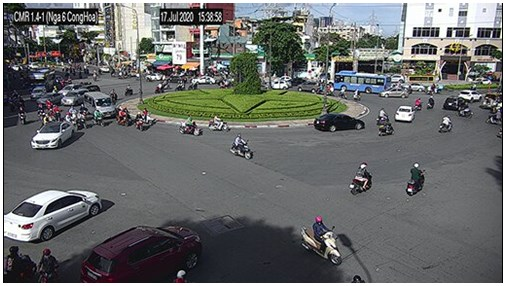xe_buyt: (334, 70, 391, 94)
xe_hoi: (80, 224, 202, 286), (4, 190, 101, 243), (30, 121, 74, 153), (314, 114, 365, 132), (62, 89, 88, 104), (380, 87, 409, 98), (396, 105, 415, 121), (444, 95, 464, 110), (37, 93, 62, 104), (459, 89, 482, 100), (295, 82, 320, 92), (29, 85, 47, 98), (60, 84, 81, 93), (269, 80, 288, 89), (145, 73, 164, 81), (193, 76, 214, 83), (406, 83, 424, 91)
xe_khach: (84, 91, 116, 120)
xe_may: (301, 216, 342, 265), (4, 246, 37, 282), (37, 247, 62, 283), (349, 161, 373, 195), (406, 163, 425, 197), (231, 133, 250, 160), (178, 114, 201, 136), (208, 114, 228, 132), (456, 99, 472, 119), (378, 119, 394, 137), (438, 116, 453, 134), (92, 108, 106, 127), (141, 107, 154, 125), (486, 109, 501, 124), (115, 110, 128, 127), (376, 108, 389, 124), (134, 112, 144, 131), (17, 106, 27, 123), (75, 111, 84, 129), (53, 103, 62, 120), (173, 79, 184, 91), (124, 84, 134, 97), (42, 113, 52, 125), (426, 95, 434, 110), (64, 112, 73, 125), (352, 88, 361, 101), (414, 97, 422, 111), (155, 82, 164, 94), (428, 81, 437, 93), (188, 79, 198, 89), (325, 84, 335, 94), (162, 79, 171, 90), (35, 104, 42, 118), (80, 104, 88, 116), (111, 89, 118, 102), (337, 88, 347, 97), (92, 70, 97, 82)
